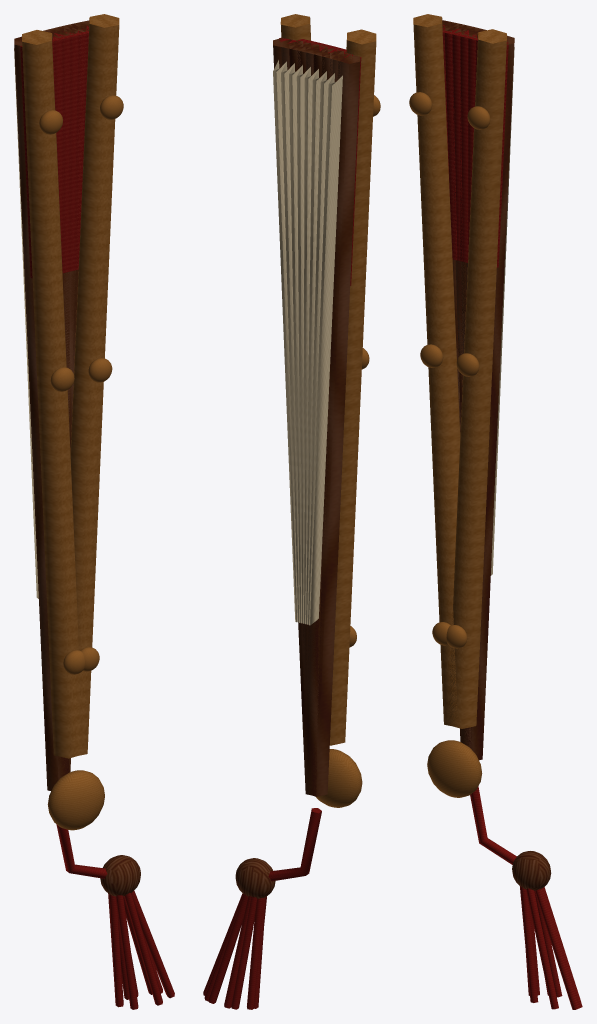
The model's file is stowed.glb.
The picture shows the model from 3 angles, left to right: view 1: azimuth 30°, elevation 25°; view 2: azimuth 150°, elevation 25°; view 3: azimuth 330°, elevation 25°; orthographic projection. The views are drawn at different scales.
Parts seen in each view (by area): view 1: Gold_outer_guard_carried_snapshot, Gold_outer_guard.001_carried_snapshot, Carved_fan_rib_0_carried_snapshot, Gold_hinge_pin_carried_snapshot, Red_lacquer_tip_4_carried_snapshot, Red_lacquer_tip_5_carried_snapshot, Red_lacquer_tip_6_carried_snapshot, Red_lacquer_tip_3_carried_snapshot, Tether_bead_carried_snapshot, Carved_fan_rib_5_carried_snapshot, Fan_red_tassel.005_carried_snapshot, Fan_red_tassel.004_carried_snapshot (+13 smaller); view 2: Carved_fan_rib_0_carried_snapshot, Gold_outer_guard_carried_snapshot, Pleated_cream_membrane_0_carried_snapshot, Pleated_cream_membrane_3_carried_snapshot, Pleated_cream_membrane_4_carried_snapshot, Pleated_cream_membrane_2_carried_snapshot, Pleated_cream_membrane_7_carried_snapshot, Pleated_cream_membrane_1_carried_snapshot, Pleated_cream_membrane_6_carried_snapshot, Pleated_cream_membrane_5_carried_snapshot, Carved_fan_rib_3_carried_snapshot, Gold_hinge_pin_carried_snapshot (+14 smaller); view 3: Gold_outer_guard.001_carried_snapshot, Gold_outer_guard_carried_snapshot, Carved_fan_rib_8_carried_snapshot, Gold_hinge_pin_carried_snapshot, Red_lacquer_tip_4_carried_snapshot, Red_lacquer_tip_3_carried_snapshot, Red_lacquer_tip_2_carried_snapshot, Tether_bead_carried_snapshot, Red_lacquer_tip_5_carried_snapshot, Fan_red_tassel.006_carried_snapshot, Fan_red_tassel.005_carried_snapshot, Carved_fan_rib_3_carried_snapshot (+13 smaller).
Part boxes in pixels (left/top/right/bottom): Gold_outer_guard_carried_snapshot: left=22, top=30, right=83, bottom=758; Gold_outer_guard.001_carried_snapshot: left=70, top=14, right=119, bottom=755; Carved_fan_rib_0_carried_snapshot: left=14, top=36, right=64, bottom=790; Gold_hinge_pin_carried_snapshot: left=47, top=770, right=104, bottom=830; Red_lacquer_tip_4_carried_snapshot: left=53, top=31, right=70, bottom=272; Red_lacquer_tip_5_carried_snapshot: left=62, top=31, right=78, bottom=271; Red_lacquer_tip_6_carried_snapshot: left=70, top=29, right=87, bottom=269; Red_lacquer_tip_3_carried_snapshot: left=52, top=33, right=64, bottom=273; Tether_bead_carried_snapshot: left=100, top=855, right=140, bottom=896; Carved_fan_rib_5_carried_snapshot: left=55, top=25, right=77, bottom=778; Fan_red_tassel.005_carried_snapshot: left=124, top=893, right=162, bottom=1005; Fan_red_tassel.004_carried_snapshot: left=115, top=895, right=138, bottom=1009; Carved_fan_rib_0_carried_snapshot: left=309, top=53, right=360, bottom=796; Gold_outer_guard_carried_snapshot: left=329, top=29, right=376, bottom=745; Pleated_cream_membrane_0_carried_snapshot: left=309, top=73, right=342, bottom=625; Pleated_cream_membrane_3_carried_snapshot: left=303, top=67, right=318, bottom=623; Pleated_cream_membrane_4_carried_snapshot: left=296, top=65, right=310, bottom=623; Pleated_cream_membrane_2_carried_snapshot: left=305, top=69, right=326, bottom=624; Pleated_cream_membrane_7_carried_snapshot: left=273, top=60, right=297, bottom=622; Pleated_cream_membrane_1_carried_snapshot: left=307, top=71, right=334, bottom=624; Pleated_cream_membrane_6_carried_snapshot: left=281, top=61, right=298, bottom=622; Pleated_cream_membrane_5_carried_snapshot: left=289, top=63, right=302, bottom=622; Carved_fan_rib_3_carried_snapshot: left=305, top=46, right=335, bottom=796; Gold_hinge_pin_carried_snapshot: left=316, top=749, right=362, bottom=807; Gold_outer_guard.001_carried_snapshot: left=448, top=29, right=506, bottom=728; Gold_outer_guard_carried_snapshot: left=413, top=14, right=460, bottom=726; Carved_fan_rib_8_carried_snapshot: left=465, top=35, right=514, bottom=760; Gold_hinge_pin_carried_snapshot: left=427, top=740, right=482, bottom=797; Red_lacquer_tip_4_carried_snapshot: left=460, top=30, right=476, bottom=262; Red_lacquer_tip_3_carried_snapshot: left=452, top=28, right=468, bottom=261; Red_lacquer_tip_2_carried_snapshot: left=444, top=28, right=460, bottom=260; Tether_bead_carried_snapshot: left=512, top=851, right=551, bottom=890; Red_lacquer_tip_5_carried_snapshot: left=466, top=34, right=477, bottom=257; Fan_red_tassel.006_carried_snapshot: left=534, top=889, right=579, bottom=1009; Fan_red_tassel.005_carried_snapshot: left=526, top=888, right=558, bottom=1009; Carved_fan_rib_3_carried_snapshot: left=453, top=24, right=474, bottom=741.
Bounding box in the file's own units: 0.1319 × 0.7708 × 0.058.
4 materials, 4 textured.
